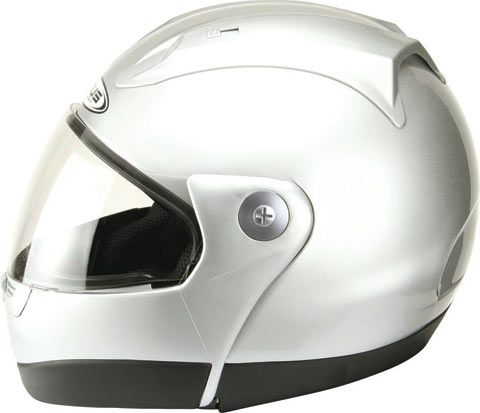helmet: (30, 6, 476, 387)
